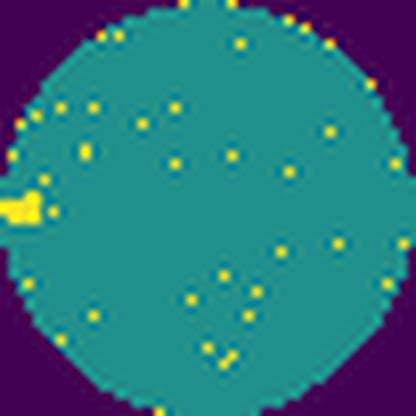Loc: (0, 186, 47, 226)
